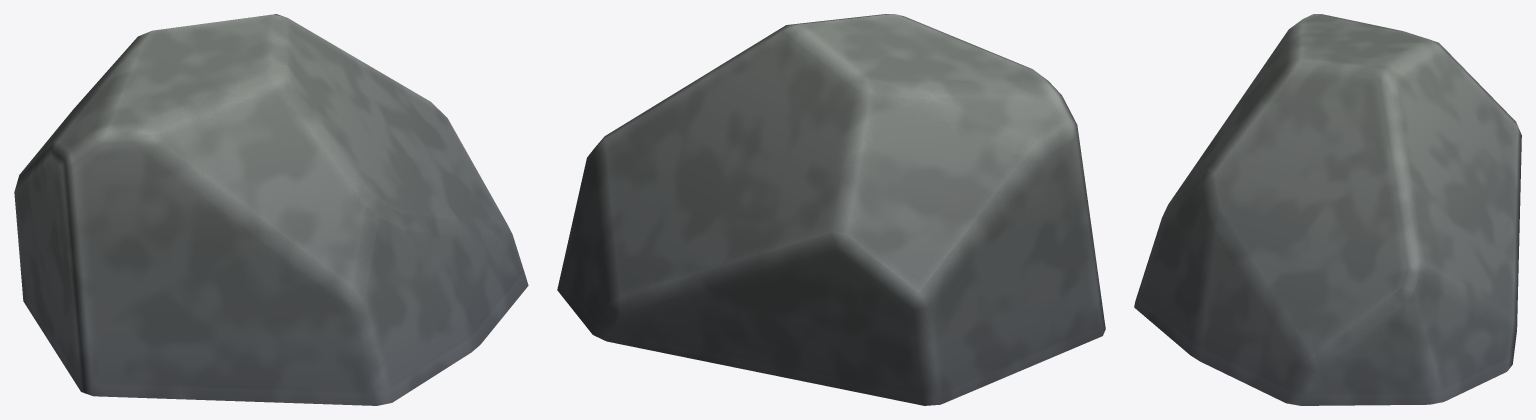
Rendered from boulder_3.glb.
The picture shows the model from 3 angles, left to right: view 1: azimuth 30°, elevation 25°; view 2: azimuth 150°, elevation 25°; view 3: azimuth 270°, elevation 25°; orthographic projection. The views are drawn at different scales.
Parts seen in each view (by area): view 1: boulder_3; view 2: boulder_3; view 3: boulder_3.
Boxes of the visible parts, x1=… form: boulder_3: x1=14, y1=14, x2=528, y2=405; boulder_3: x1=557, y1=14, x2=1105, y2=405; boulder_3: x1=1134, y1=14, x2=1521, y2=405.
Size of the model in its own units: 3.2 by 1.9 by 2.7.
1 material, 1 textured.
